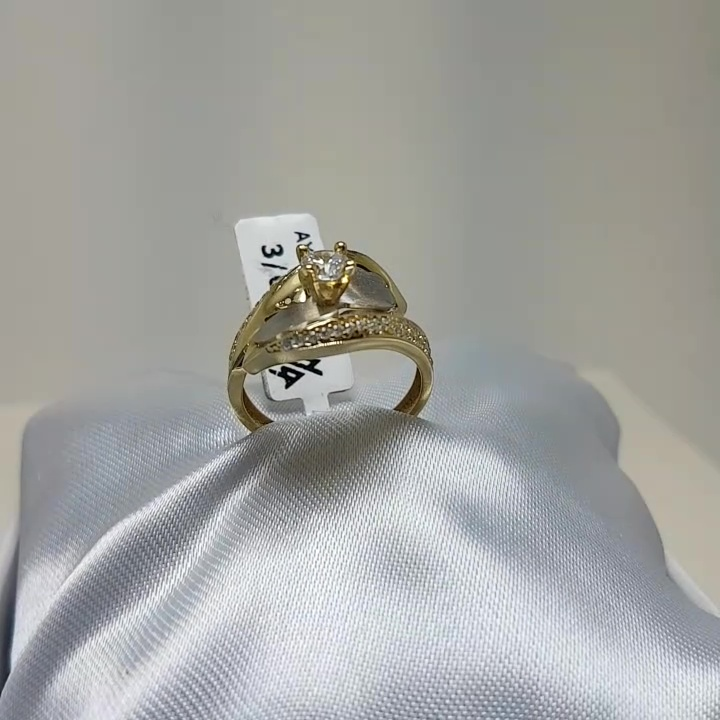Ring 6: (194, 217, 454, 474)
